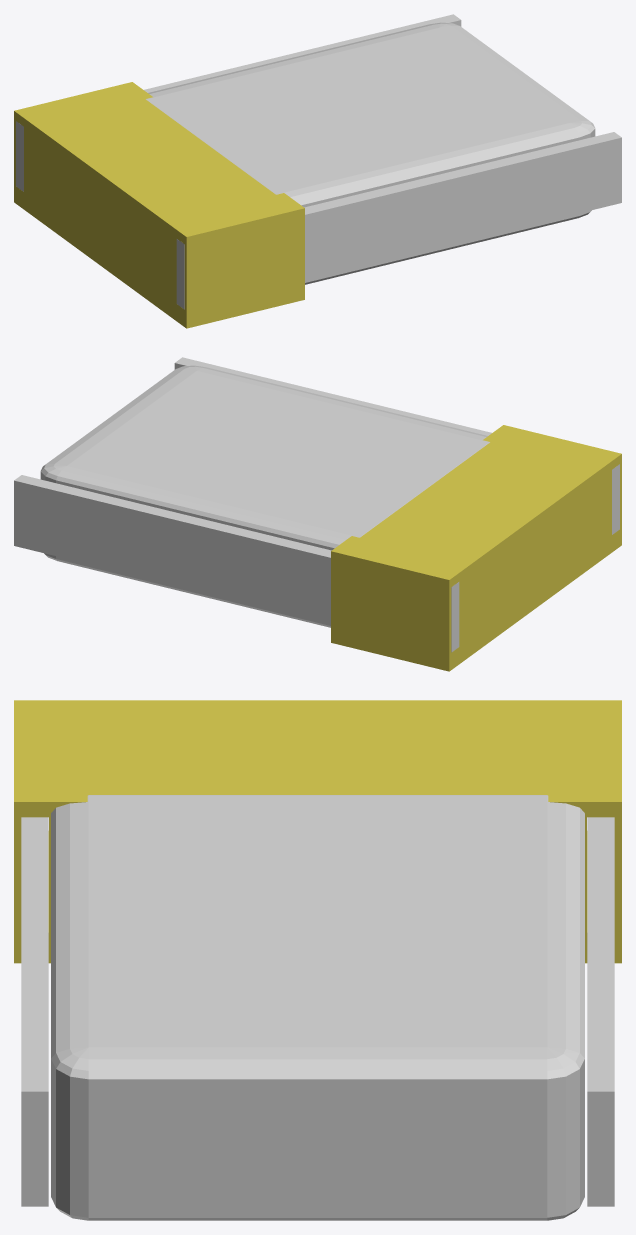
The model's file is gurumi_bat.glb.
3 renders of one model, top to bottom at view 1: azimuth 30°, elevation 25°; view 2: azimuth 150°, elevation 25°; view 3: azimuth 270°, elevation 25°, orthographic. The views are drawn at different scales.
Parts seen in each view (by area): view 1: Mesh_Mesh_head_geo.001_lambert2SG.001; view 2: Mesh_Mesh_head_geo.001_lambert2SG.001; view 3: Mesh_Mesh_head_geo.001_lambert2SG.001.
Boxes of the visible parts, x1=… form: Mesh_Mesh_head_geo.001_lambert2SG.001: x1=14, y1=14, x2=621, y2=328; Mesh_Mesh_head_geo.001_lambert2SG.001: x1=14, y1=357, x2=621, y2=671; Mesh_Mesh_head_geo.001_lambert2SG.001: x1=14, y1=700, x2=621, y2=1220.
Bounding box in the file's own units: 30 × 6 × 20.5.
